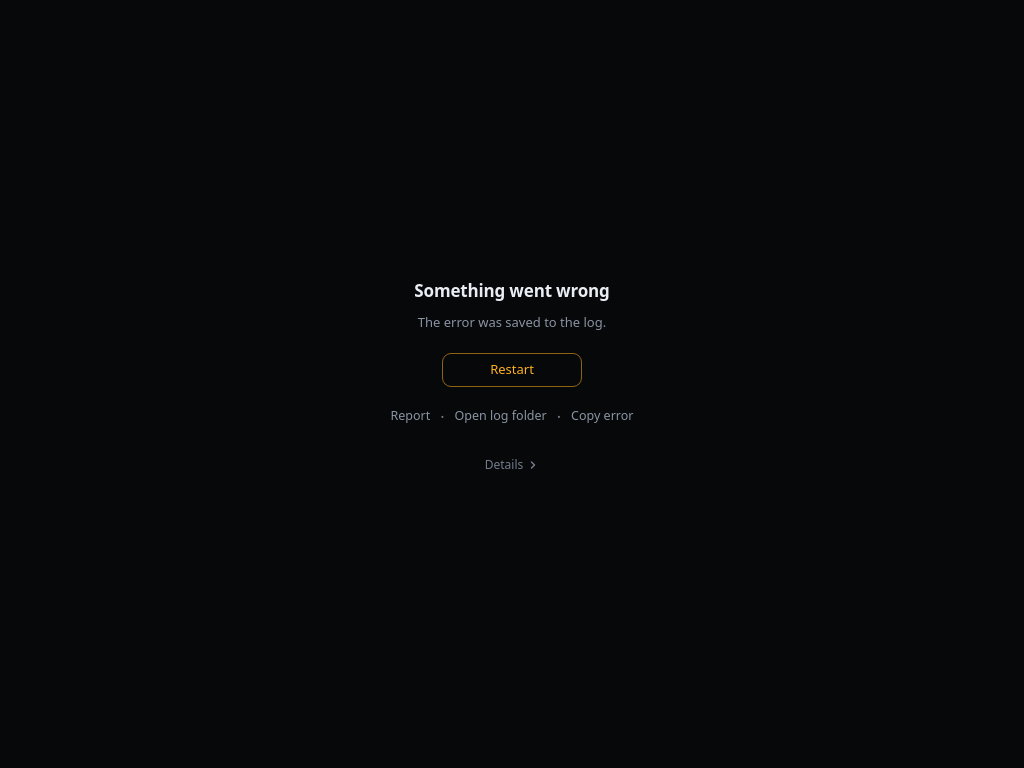
Scenario: GlobalErrorBoundary — fallback surface › toggles the details <pre> when the show/hide button is clicked
Click the button "Details" at (512, 464), box [477,448,547,480]
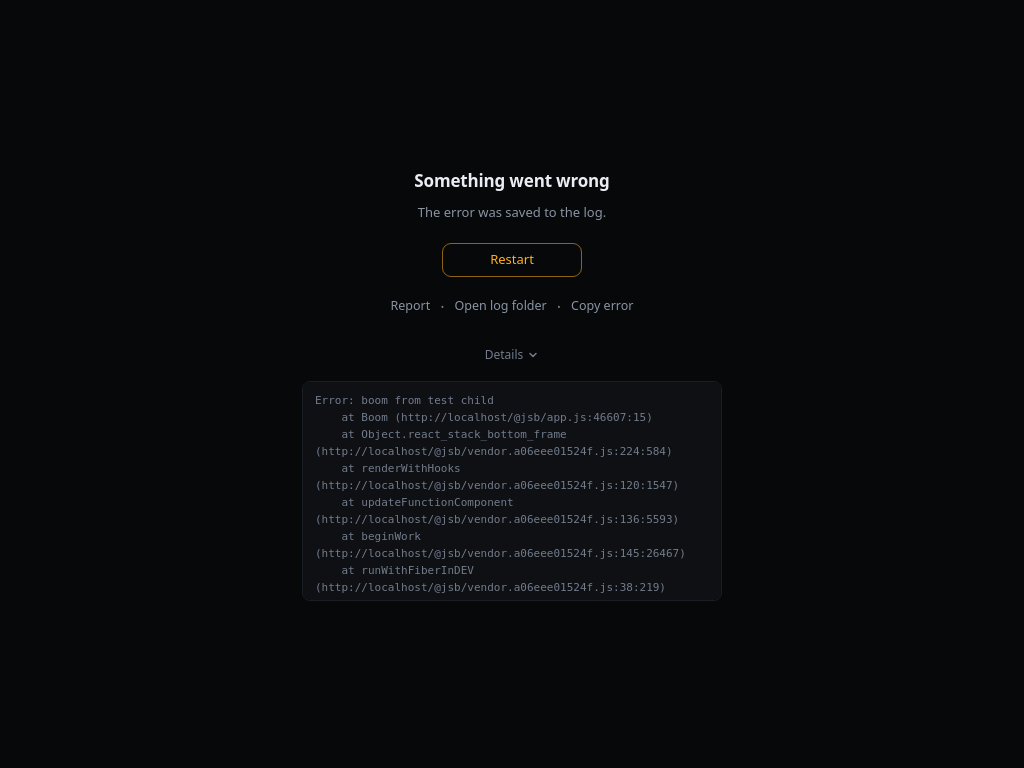
Expected: the text with id "lm-errboundary-details" is shown, [302,380,722,600]
Expected: the text with id "lm-errboundary-details" shows "boom from test child", [315,394,692,730]
Expected: the button "Details" is expanded, [477,338,547,370]
